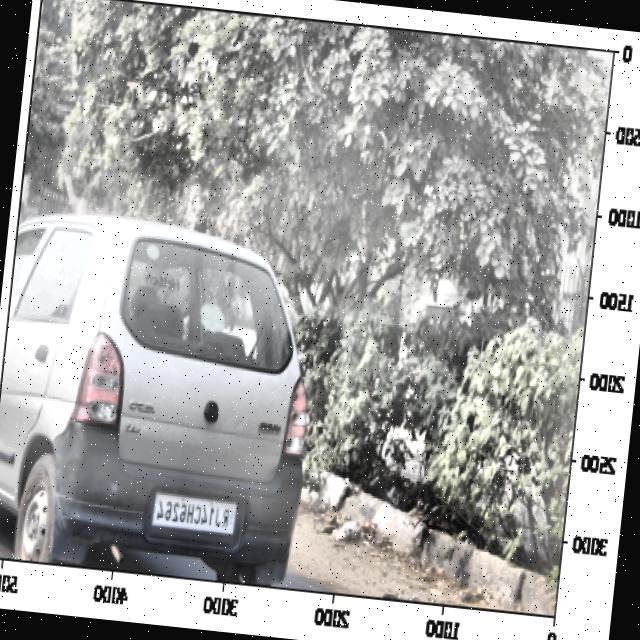license_plate: (148, 487, 237, 534)
